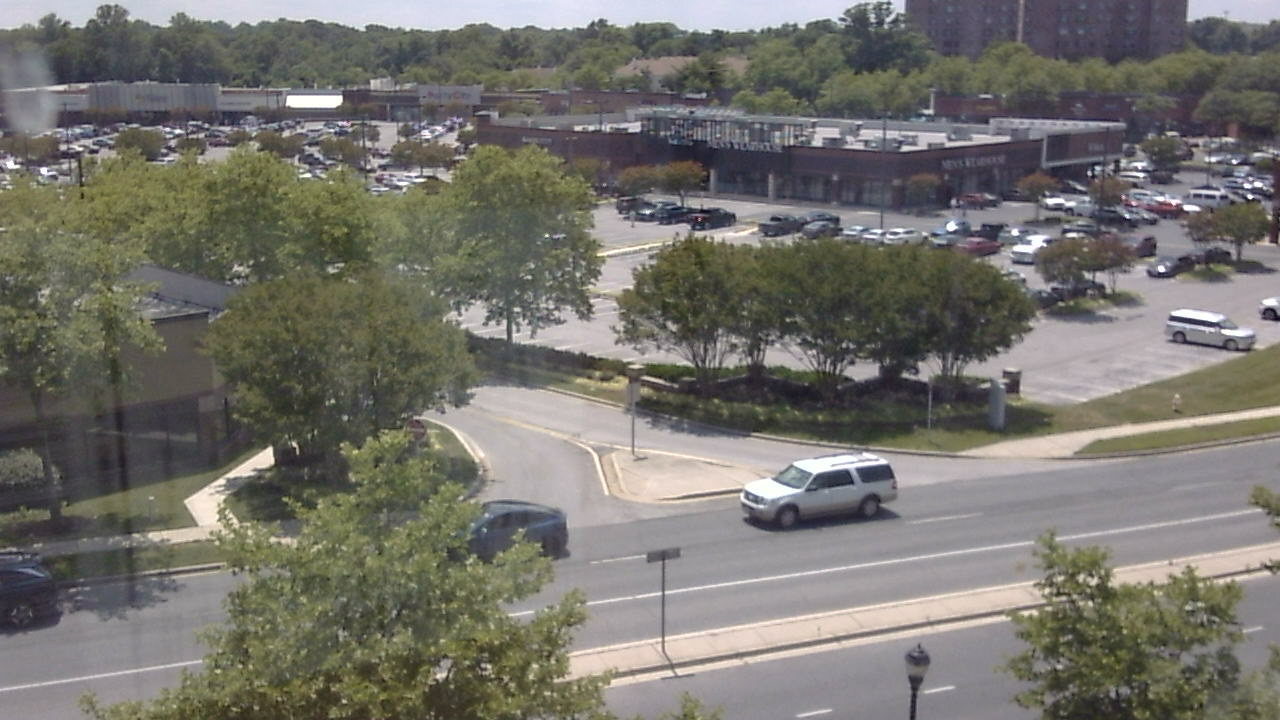Car: (725, 460, 922, 537), (427, 498, 597, 578)
